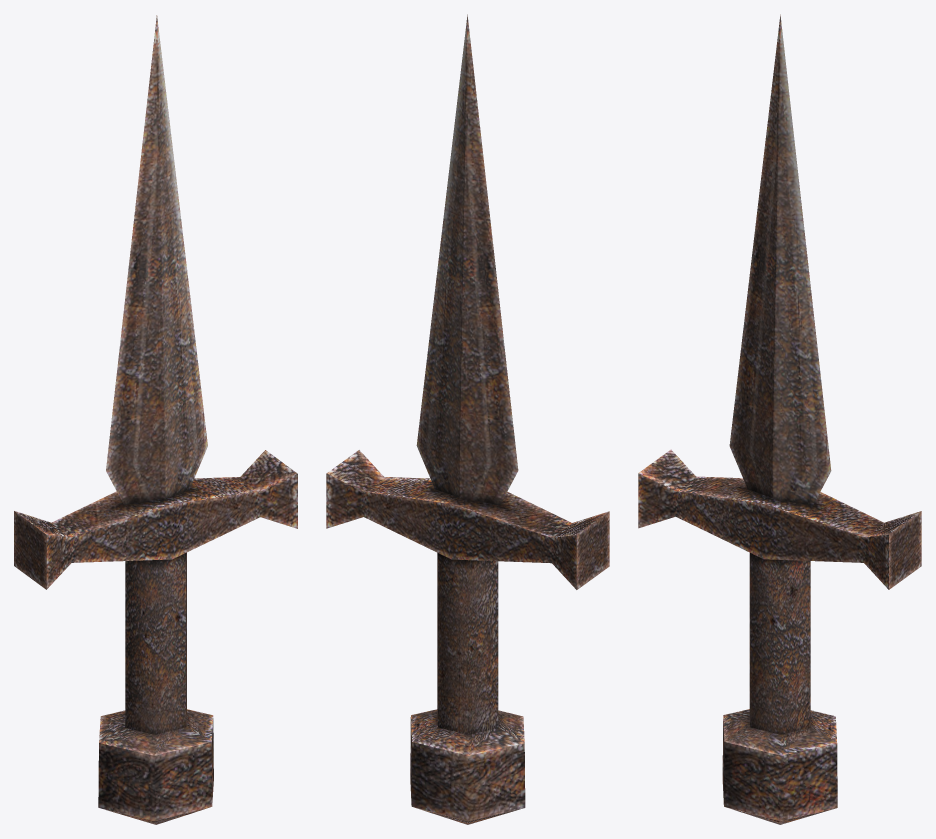
The model's file is dagger01_rusty.FBX.
The picture shows the model from 3 angles, left to right: view 1: azimuth 30°, elevation 25°; view 2: azimuth 150°, elevation 25°; view 3: azimuth 330°, elevation 25°; orthographic projection.
Parts seen in each view (by area): view 1: dagger01; view 2: dagger01; view 3: dagger01.
Boxes of the visible parts, x1,y1,x2,y2 form: dagger01: (14, 15, 297, 824); dagger01: (326, 14, 609, 824); dagger01: (638, 14, 921, 824).
Size of the model in its own units: 0.3327 by 1.03 by 0.1257.
